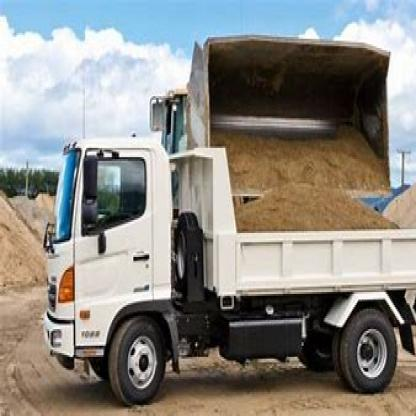dump_truck: (42, 113, 415, 414)
